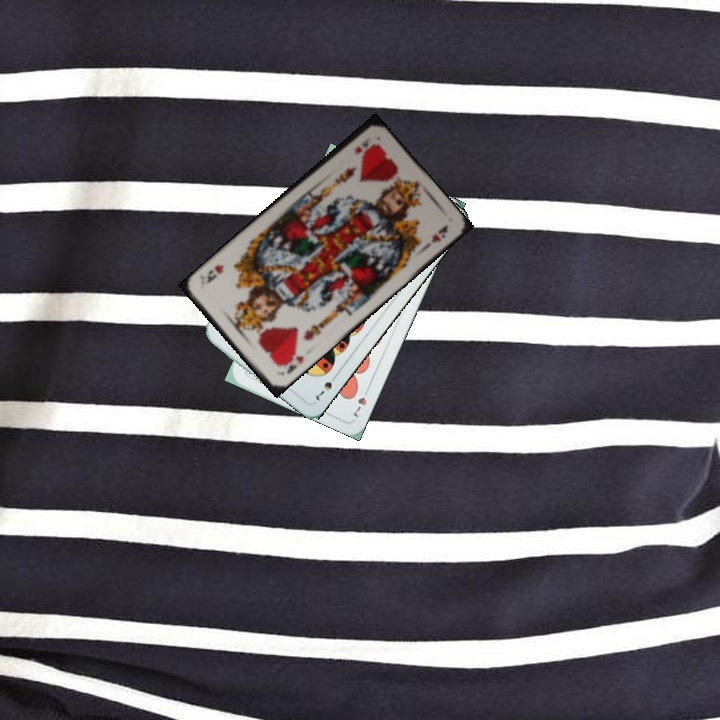H7: (349, 383, 372, 420)
HK: (275, 349, 306, 378), (351, 133, 372, 157)
S7: (311, 370, 340, 405)
